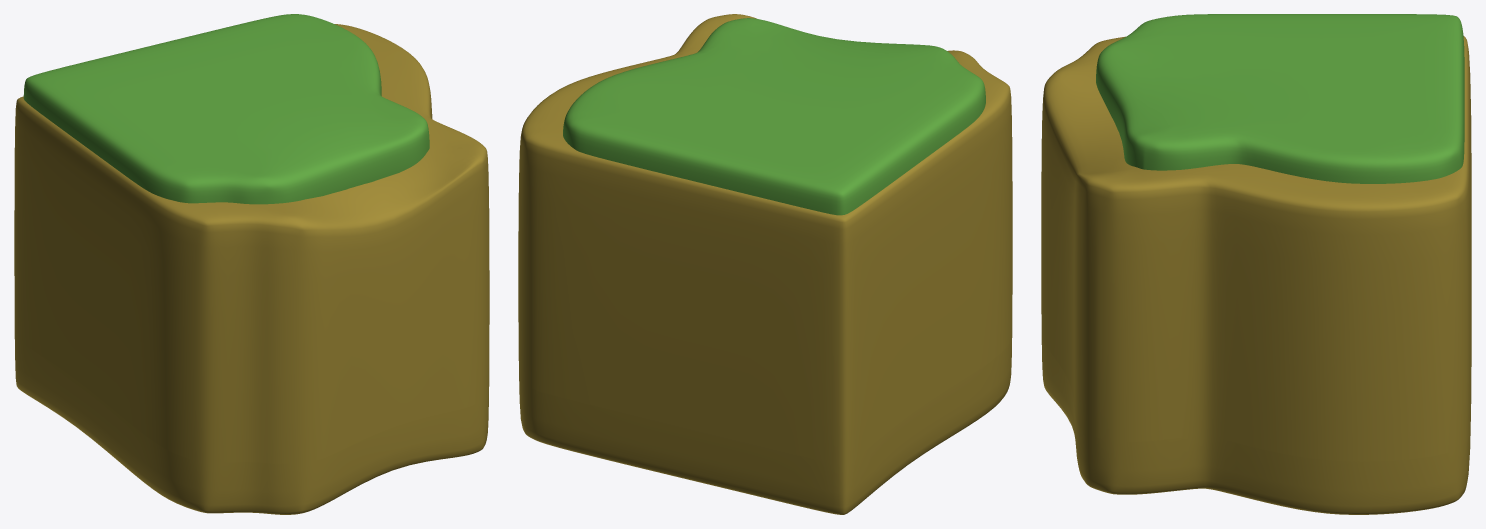
The model's file is dat.glb.
The picture shows the model from 3 angles, left to right: view 1: azimuth 30°, elevation 25°; view 2: azimuth 150°, elevation 25°; view 3: azimuth 270°, elevation 25°; orthographic projection. The views are drawn at different scales.
Visible parts, largest first — view 1: cuc dat cute; view 2: cuc dat cute; view 3: cuc dat cute.
Part boxes in pixels (box(x1,y1,x2,y2)): cuc dat cute: box(14, 14, 489, 514); cuc dat cute: box(518, 14, 1012, 514); cuc dat cute: box(1041, 14, 1471, 514).
Bounding box in the file's own units: 2.12 × 1.86 × 2.16.
